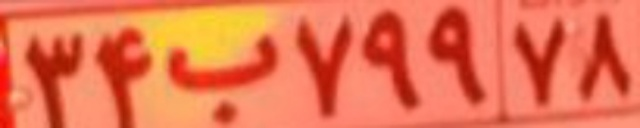3: (22, 31, 91, 127)
4: (96, 26, 156, 127)
7: (293, 11, 351, 118), (509, 15, 564, 106)
8: (576, 11, 632, 103)
9: (428, 7, 488, 103), (361, 9, 415, 107)
be: (164, 32, 284, 126)
